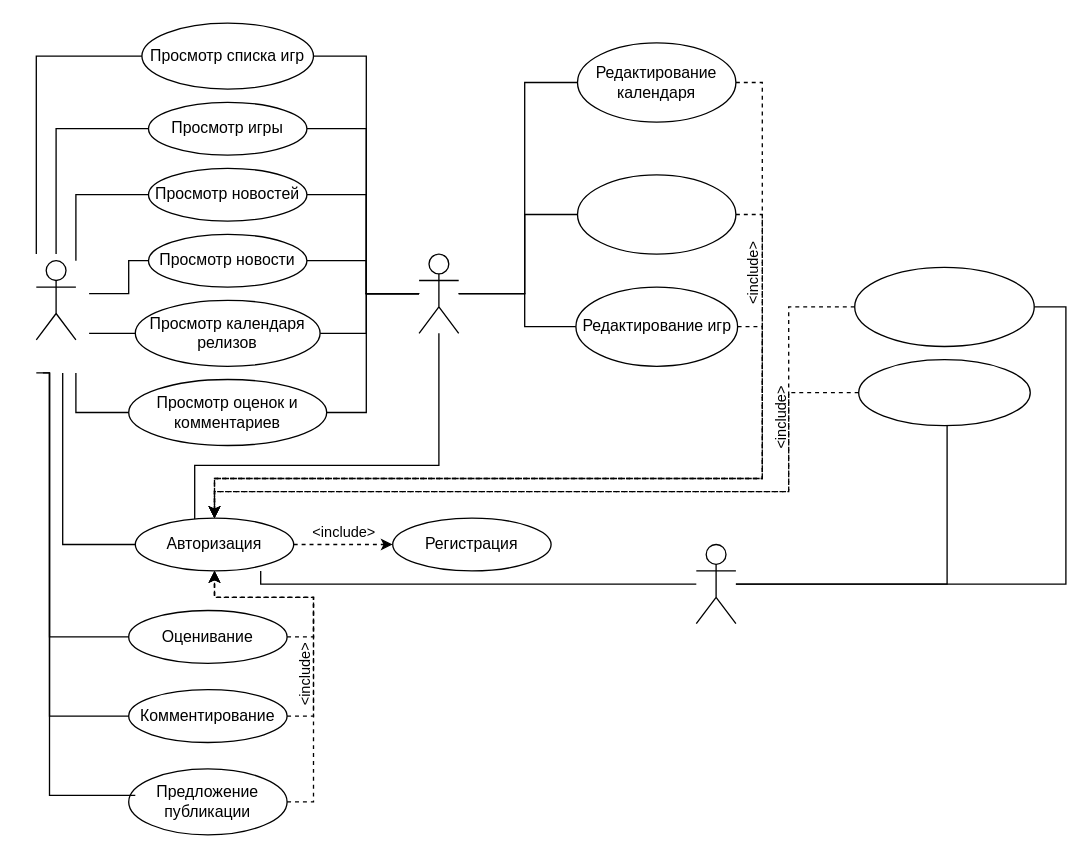
Some shapes in this 1090 by 858 pixel diagram are drawn without their labels. The centre of each missing label's shape, as x and y in pixels:
"Администратор" belongs at point (715, 583).
"Администрирование" belongs at point (943, 306).
"Редактирование публикация" belongs at point (656, 214).
"Редактор" belongs at point (438, 293).
"Статистика" belongs at point (943, 392).
"Читатель" belongs at point (55, 299).
